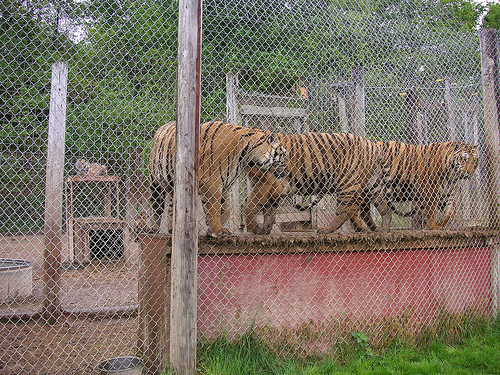Tigre: (432, 141, 486, 198)
